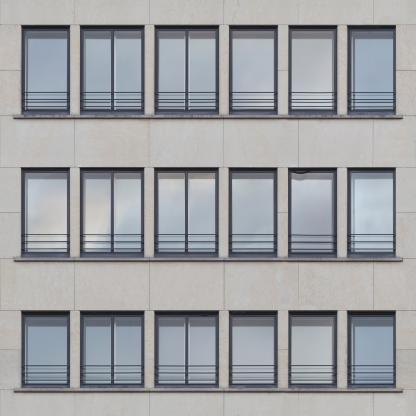Building Outline: (0, 0, 416, 416)
Facade: (0, 1, 416, 416)
Floor: (0, 123, 416, 257), (0, 265, 416, 388), (0, 0, 416, 115)
Floor Slab: (0, 257, 416, 266), (0, 115, 416, 123), (0, 388, 416, 396)
Sill: (13, 388, 403, 391), (13, 115, 403, 118), (13, 257, 403, 260)
Window: (155, 25, 220, 115), (155, 167, 220, 257), (80, 25, 145, 115), (80, 167, 145, 257), (155, 310, 220, 388), (80, 310, 145, 388), (347, 25, 396, 115), (347, 168, 396, 258), (21, 25, 70, 115), (21, 168, 70, 258), (288, 25, 337, 115), (288, 168, 337, 258), (229, 25, 277, 115), (229, 168, 277, 258), (348, 310, 396, 388), (22, 310, 70, 388), (229, 310, 277, 388), (289, 310, 337, 388)
